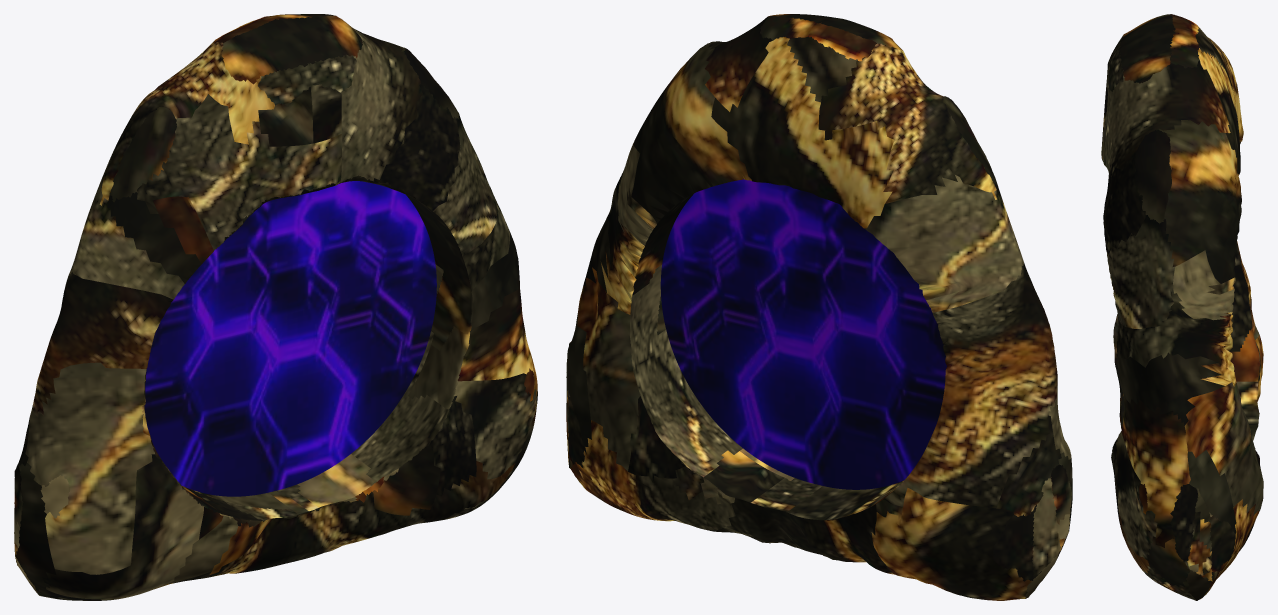
The model's file is portal_black_and_gold.glb.
The picture shows the model from 3 angles, left to right: view 1: azimuth 30°, elevation 25°; view 2: azimuth 150°, elevation 25°; view 3: azimuth 270°, elevation 25°; orthographic projection. The views are drawn at different scales.
Parts seen in each view (by area): view 1: Portal, Portal Surface; view 2: Portal, Portal Surface; view 3: Portal.
Part boxes in pixels (left/top/right/bottom): Portal: left=14, top=14, right=537, bottom=600; Portal Surface: left=144, top=181, right=436, bottom=496; Portal: left=566, top=14, right=1072, bottom=600; Portal Surface: left=660, top=179, right=946, bottom=489; Portal: left=1101, top=14, right=1263, bottom=600.
Size of the model in its own units: 13.66 by 13.79 by 4.18.
2 materials, 2 textured.
